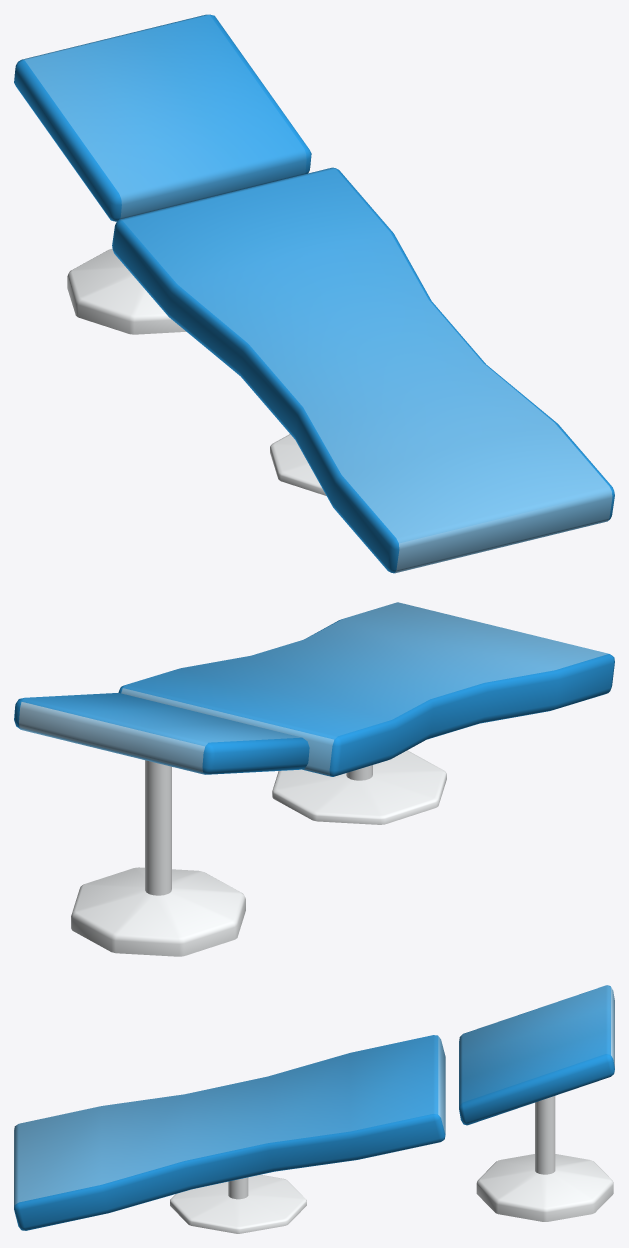
Rendered from halterstand.fbx.
3 renders of one model, top to bottom at view 1: azimuth 30°, elevation 25°; view 2: azimuth 150°, elevation 25°; view 3: azimuth 270°, elevation 25°, orthographic. The views are drawn at different scales.
Parts seen in each view (by area): view 1: halterstand; view 2: halterstand; view 3: halterstand.
Boxes of the visible parts, x1,y1,x2,y2 form: halterstand: (14, 14, 614, 573); halterstand: (14, 602, 614, 956); halterstand: (14, 985, 614, 1233).
Bounding box in the file's own units: 1.46 × 1.53 × 4.49.
